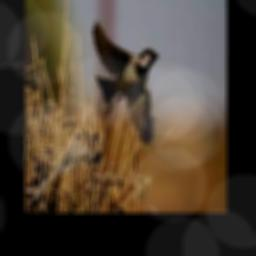Sparrow: (92, 20, 159, 144)
